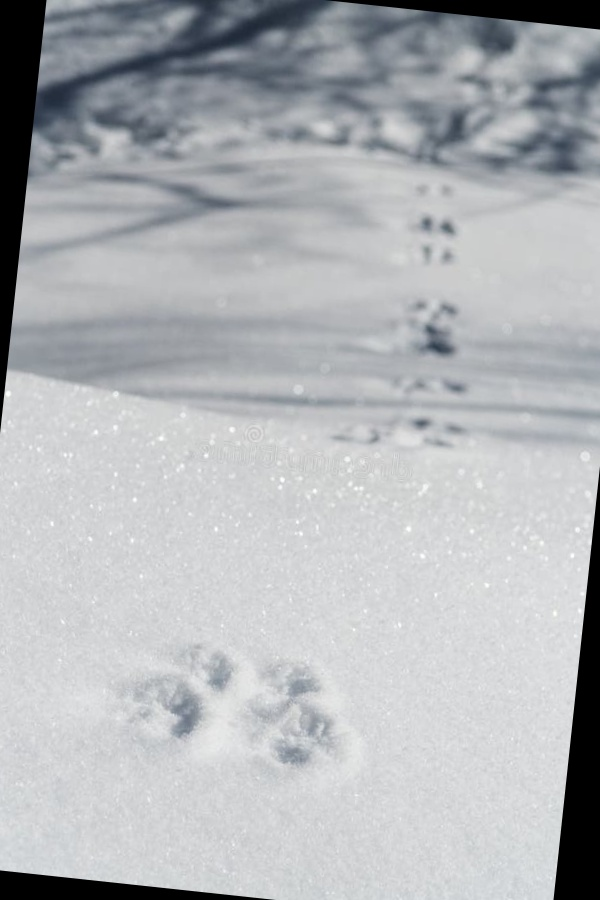rabbit: (86, 613, 375, 810)
